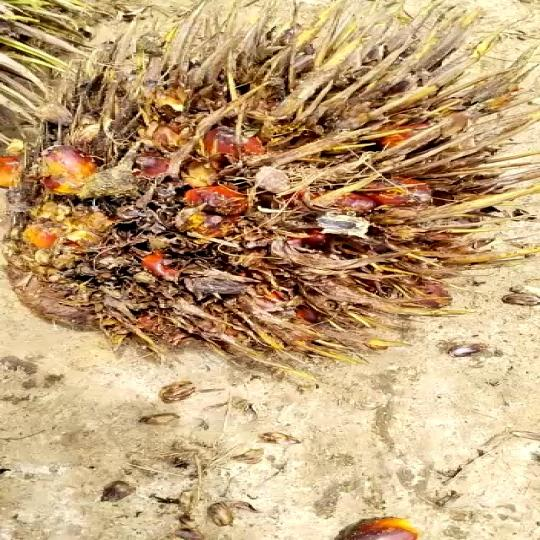terlalu masak: (0, 0, 540, 382)
